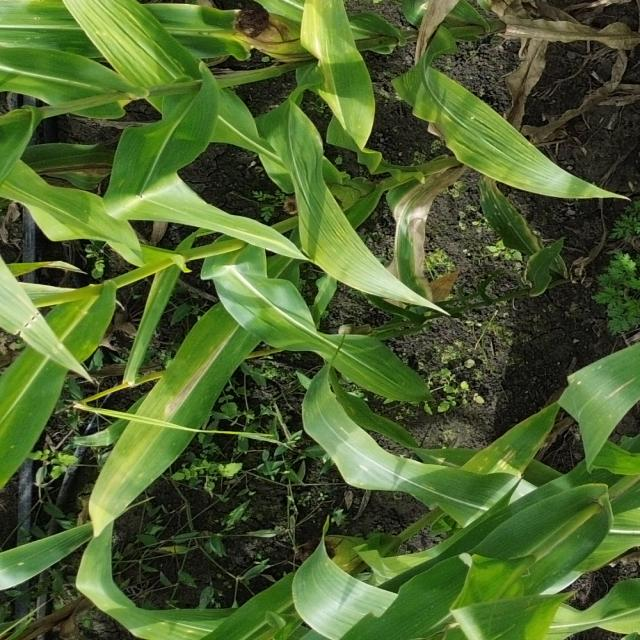gray-leaf-spot: (476, 422, 539, 475)
northern-leaf-blight: (392, 183, 432, 289), (172, 340, 223, 423), (33, 149, 112, 187)
southern-leaf-blight: (4, 305, 65, 352), (481, 185, 519, 228)
